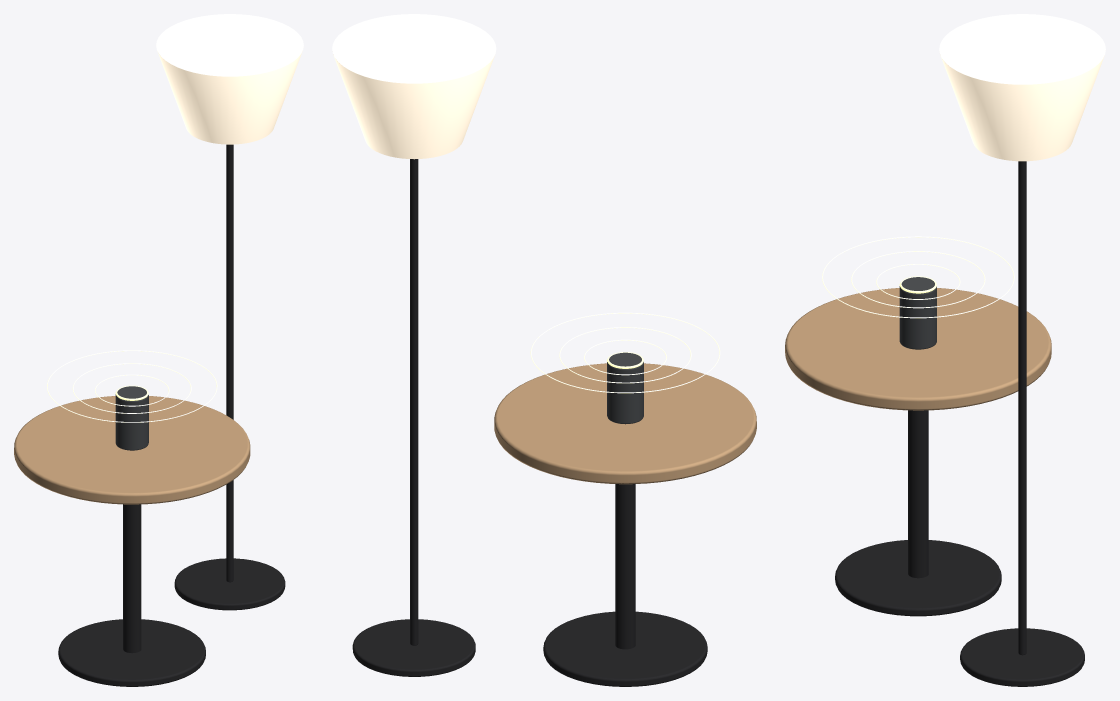
The picture shows the model from 3 angles, left to right: view 1: azimuth 30°, elevation 25°; view 2: azimuth 150°, elevation 25°; view 3: azimuth 270°, elevation 25°; orthographic projection. The views are drawn at different scales.
Parts seen in each view (by area): view 1: sa_table_top, fl_shade, sa_table_base, fl_base, fl_pole, sa_table_post, sa_echo_body, sa_halo.002; view 2: sa_table_top, fl_shade, sa_table_base, fl_base, fl_pole, sa_table_post, sa_echo_body, sa_halo.002; view 3: sa_table_top, fl_shade, sa_table_base, fl_base, fl_pole, sa_table_post, sa_echo_body, sa_halo.002.
Boxes of the visible parts, x1,y1,x2,y2 form: sa_table_top: [14, 396, 250, 504]; fl_shade: [156, 14, 303, 144]; sa_table_base: [58, 619, 205, 686]; fl_base: [174, 558, 285, 610]; fl_pole: [226, 144, 233, 582]; sa_table_post: [123, 504, 141, 653]; sa_echo_body: [115, 394, 148, 450]; sa_halo.002: [47, 350, 217, 422]; sa_table_top: [494, 363, 756, 484]; fl_shade: [332, 14, 496, 159]; sa_table_base: [543, 611, 707, 686]; fl_base: [352, 619, 475, 676]; fl_pole: [410, 159, 418, 645]; sa_table_post: [615, 484, 635, 649]; sa_echo_body: [607, 362, 643, 424]; sa_halo.002: [530, 312, 720, 393]; sa_table_top: [785, 288, 1051, 410]; fl_shade: [939, 14, 1105, 161]; sa_table_base: [835, 540, 1001, 616]; fl_base: [960, 628, 1084, 686]; fl_pole: [1018, 161, 1026, 655]; sa_table_post: [908, 410, 928, 578]; sa_echo_body: [899, 286, 936, 349]; sa_halo.002: [822, 236, 1014, 318].
Size of the model in its own units: 0.97 by 1.62 by 0.77.
